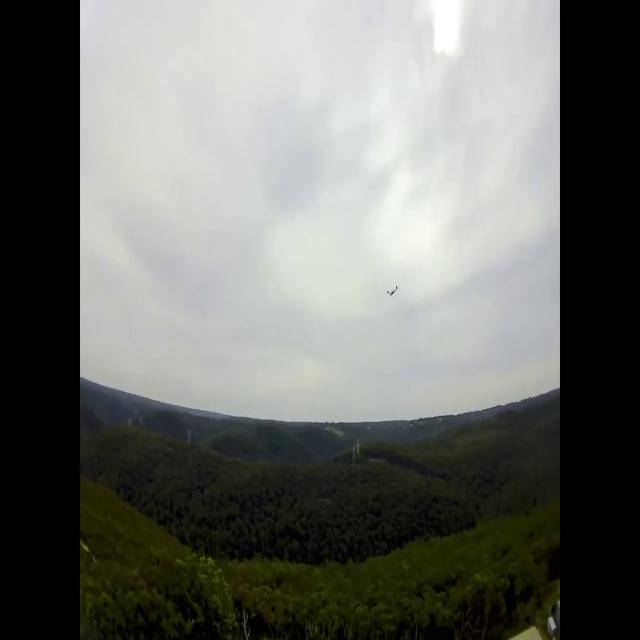iha: (384, 284, 389, 297)
